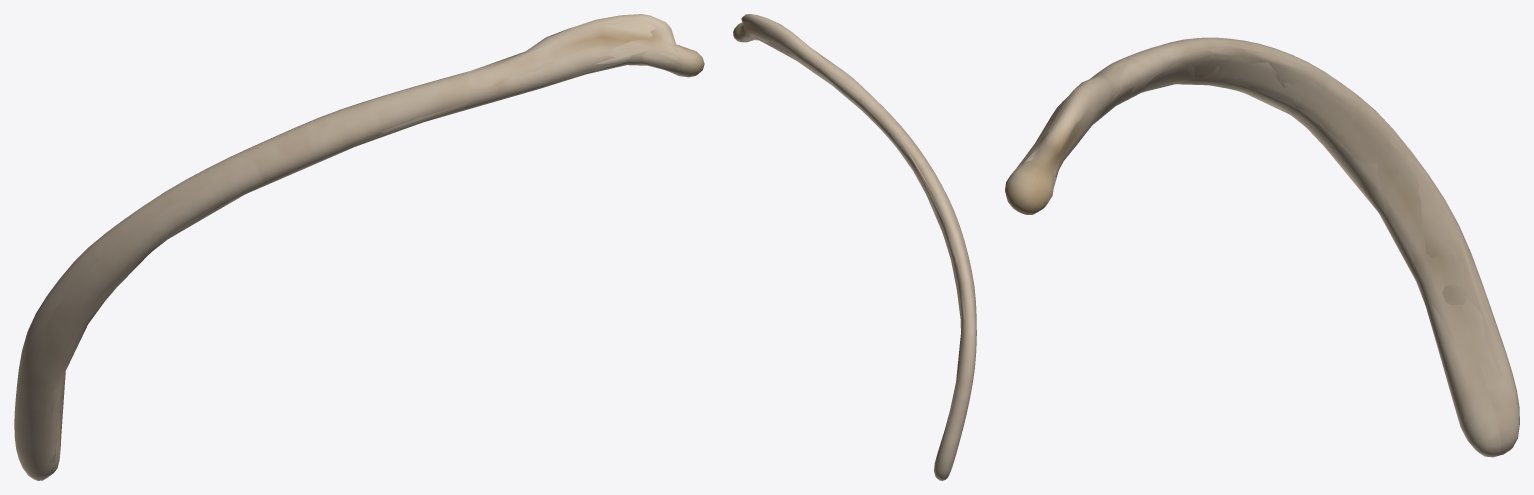
File: Rib R18.fbx
3 views of the same model, side by side, from view 1: azimuth 30°, elevation 25°; view 2: azimuth 150°, elevation 25°; view 3: azimuth 270°, elevation 25° (orthographic). The views are drawn at different scales.
Visible parts, largest first — view 1: Rib R18, Rib R18 low; view 2: Rib R18, Rib R18 low; view 3: Rib R18, Rib R18 low.
Part boxes in pixels (x1=…): Rib R18: x1=14, y1=14, x2=704, y2=480; Rib R18 low: x1=28, y1=19, x2=703, y2=463; Rib R18: x1=733, y1=14, x2=976, y2=480; Rib R18 low: x1=734, y1=19, x2=973, y2=477; Rib R18: x1=1005, y1=37, x2=1519, y2=457; Rib R18 low: x1=1008, y1=41, x2=1517, y2=454.
Bounding box in the file's own units: 26.19 × 22.99 × 16.98.
1 material, 1 textured.
